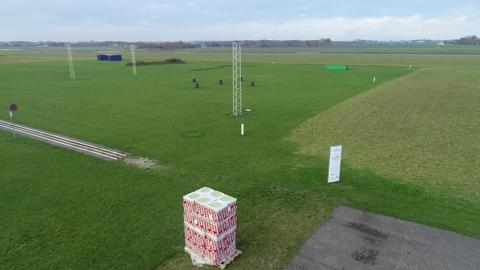RockwoolPallet: (183, 187, 239, 267)
